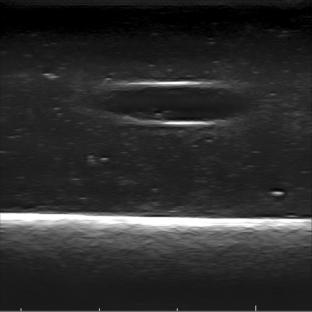vessel: (102, 80, 249, 126)
